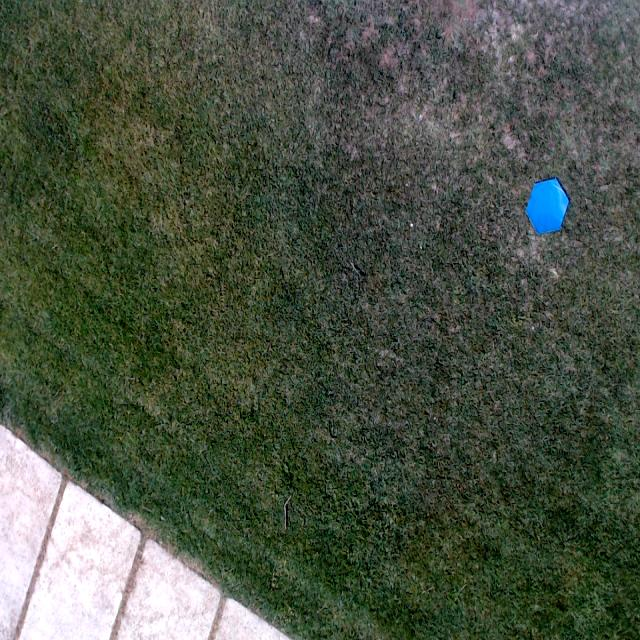blue_hexagon: (526, 177, 570, 233)
